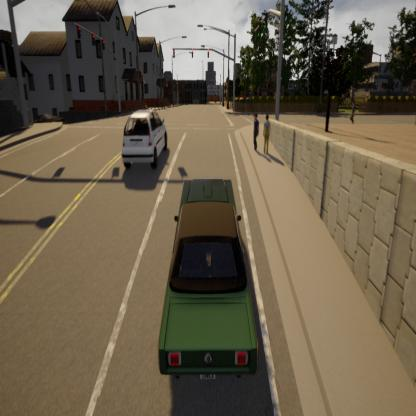Cars: (150, 168, 260, 387), (112, 105, 172, 176), (31, 107, 66, 125)
Pedestrian: (262, 111, 272, 158), (252, 111, 261, 155), (348, 100, 356, 126)
